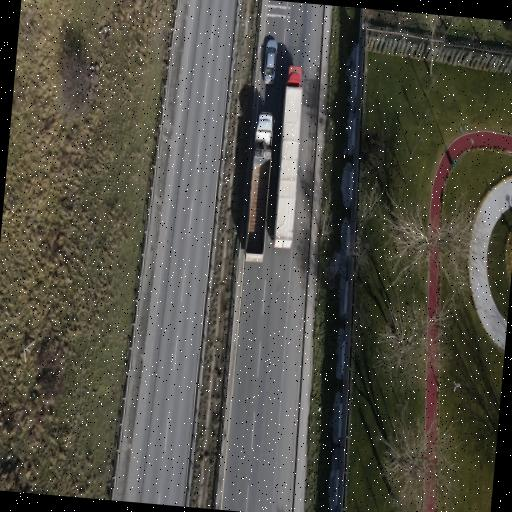UAI: (274, 66, 302, 248), (245, 113, 273, 261)
person: (264, 39, 277, 84)
